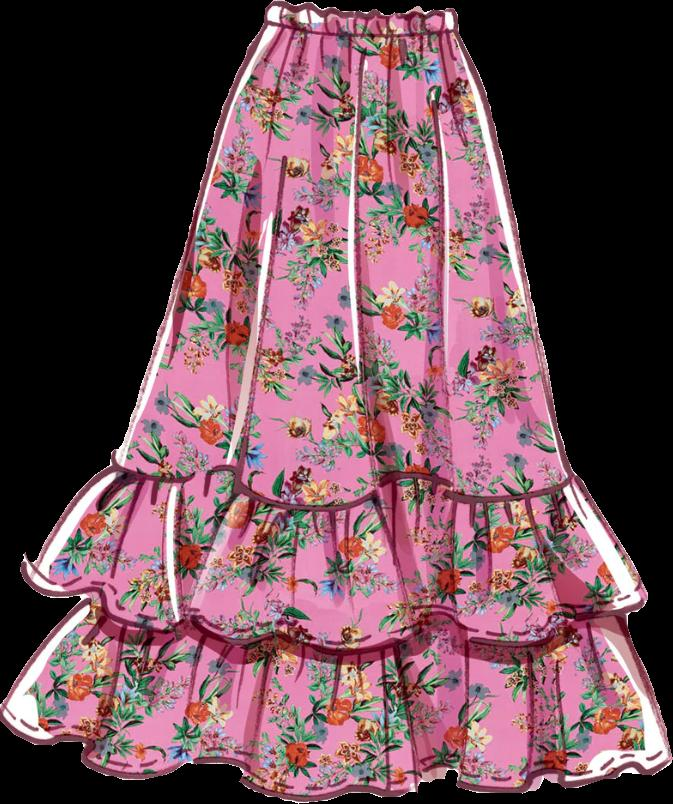Hemline: (0, 711, 670, 799), (24, 573, 650, 654)
Waistline: (108, 452, 575, 513), (258, 20, 459, 46), (267, 0, 458, 23)
